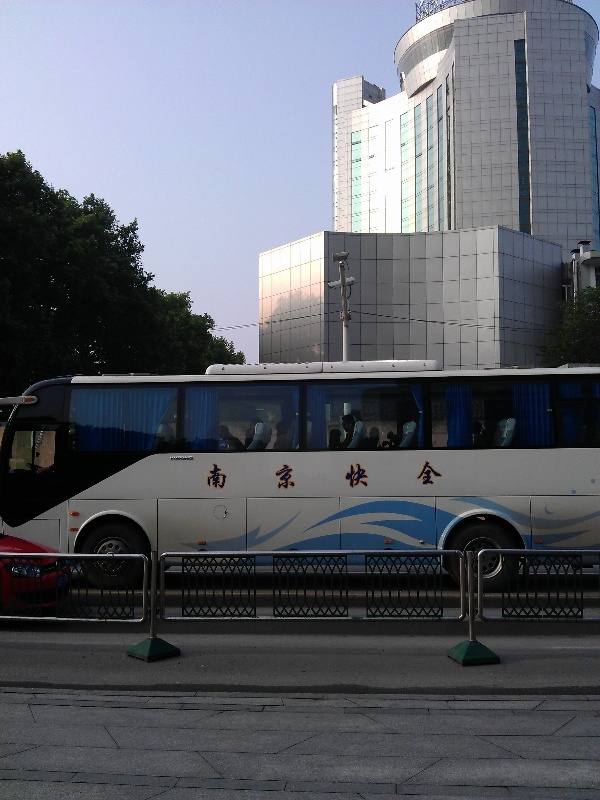text: (209, 459, 224, 491), (225, 459, 240, 491), (241, 459, 256, 491), (257, 459, 272, 491), (273, 459, 288, 491), (289, 459, 304, 491), (305, 459, 320, 491), (321, 459, 336, 491), (337, 459, 352, 491), (353, 459, 368, 491), (369, 459, 384, 491), (385, 459, 400, 491), (401, 459, 416, 491), (417, 459, 432, 491), (433, 459, 443, 491), (177, 456, 192, 461), (206, 459, 208, 491), (169, 456, 176, 461), (193, 456, 195, 461)
